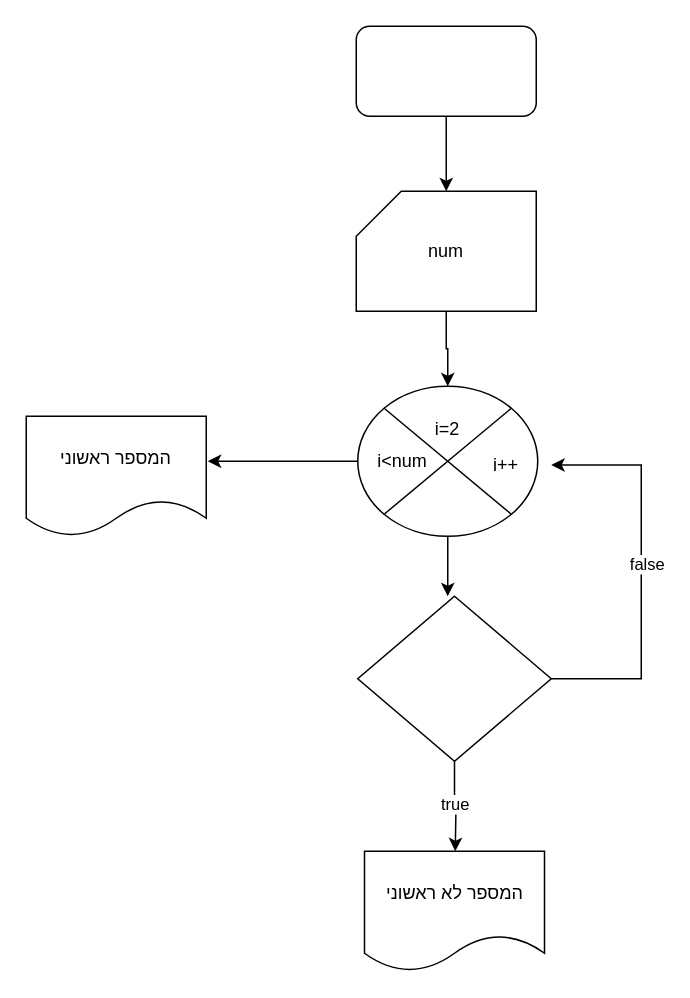
The diagram is 690 pixels wide and 998 high, and some of its shapes have lost their labels. Each missing label, with the centre of its shape:
"num%i==0" belongs at (453,678).
"start" belongs at (445,70).
